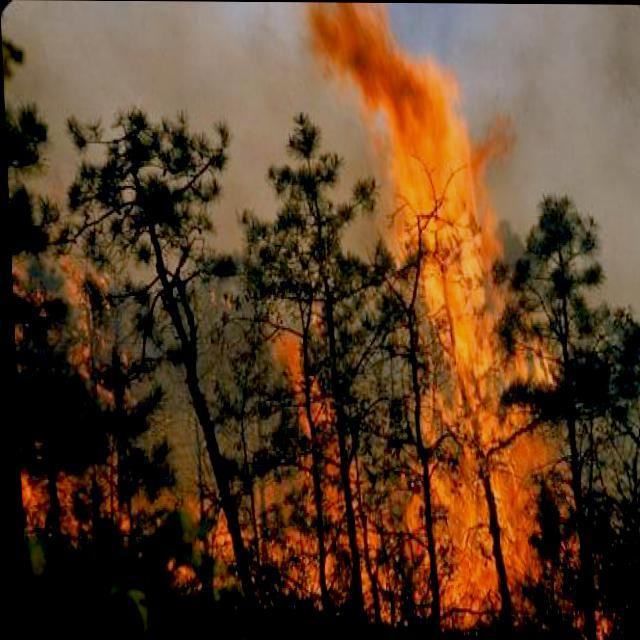Fire: (16, 13, 554, 614)
